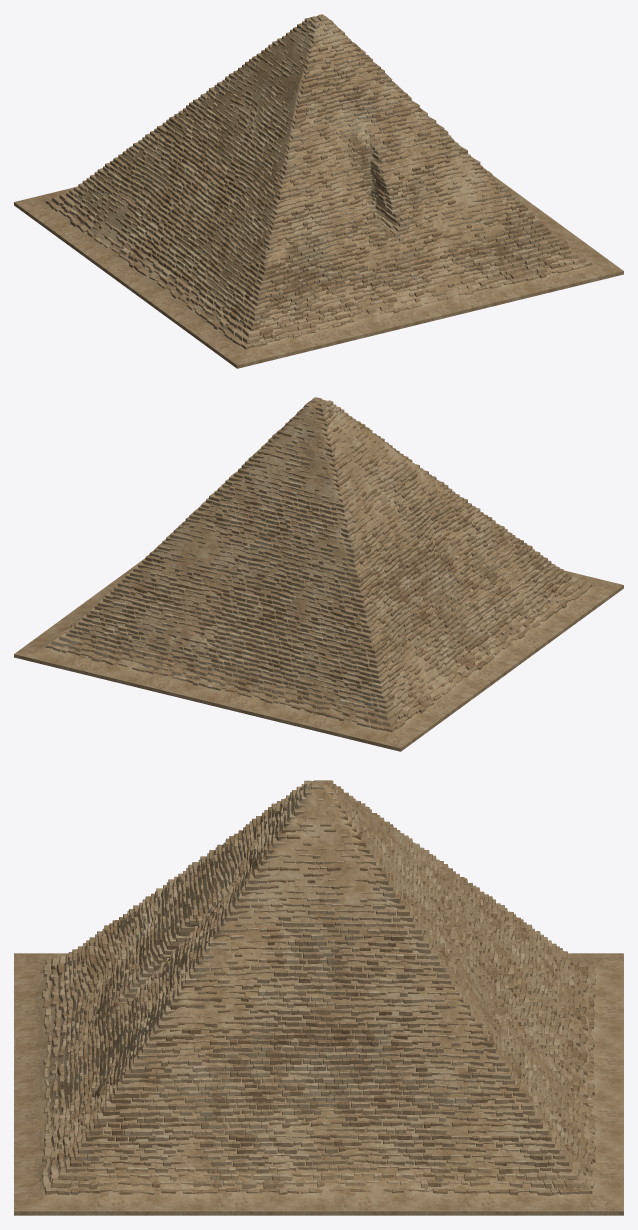
3 renders of one model, top to bottom at view 1: azimuth 30°, elevation 25°; view 2: azimuth 150°, elevation 25°; view 3: azimuth 270°, elevation 25°, orthographic. The views are drawn at different scales.
Parts seen in each view (by area): view 1: Pyramid03.Shape; view 2: Pyramid03.Shape; view 3: Pyramid03.Shape.
Boxes of the visible parts, x1,y1,x2,y2 form: Pyramid03.Shape: [14, 14, 623, 368]; Pyramid03.Shape: [14, 397, 623, 751]; Pyramid03.Shape: [14, 780, 623, 1215].
Size of the model in its own units: 4538 by 2498 by 4537.
3 materials, 3 textured.
